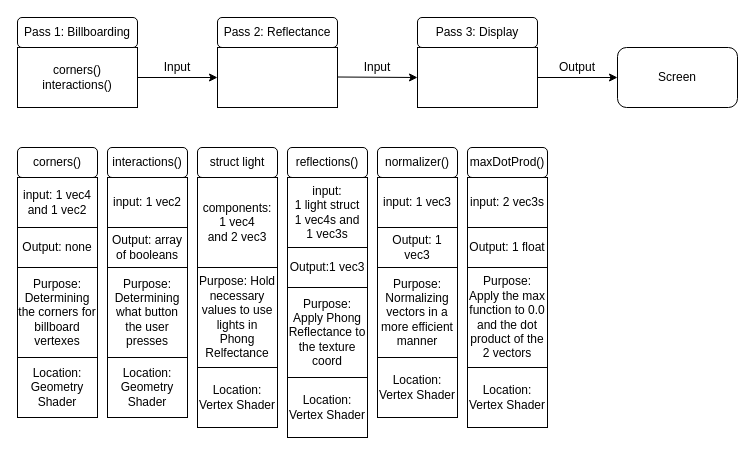
Some shapes in this 755 by 455 pixel diagram are drawn without their labels. Each missing label, with the box of its shape:
No extra functions or structs: (416, 46, 538, 108)
struct light reflections() normalizer() maxDotProd(): (216, 46, 338, 108)
